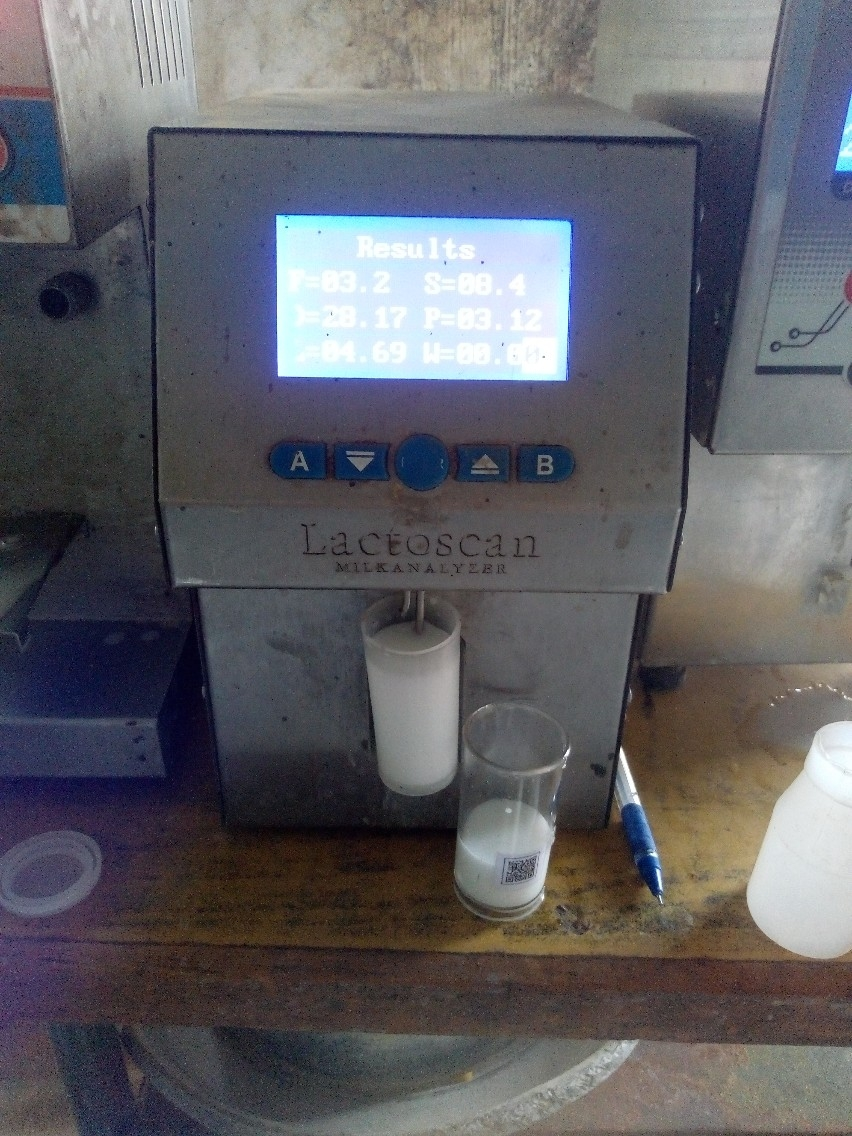lcd: (252, 188, 585, 407)
qr: (500, 844, 547, 894)
